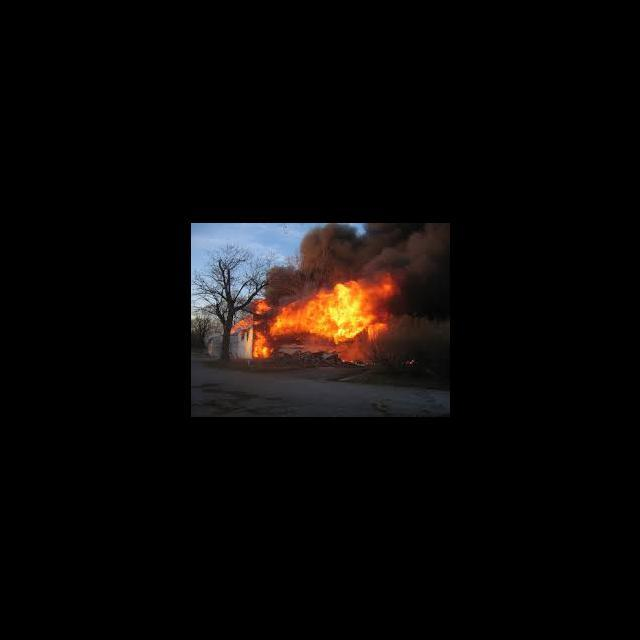Fire: (250, 274, 396, 360), (229, 316, 247, 333)
Smoke: (398, 225, 449, 358), (300, 223, 396, 274)
